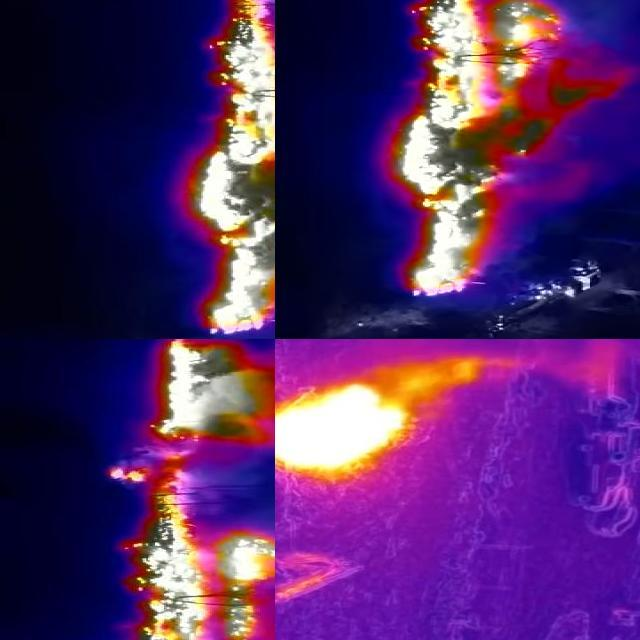fire: (393, 1, 596, 297), (90, 466, 276, 640), (182, 1, 276, 335), (276, 380, 426, 476), (143, 340, 276, 445)
